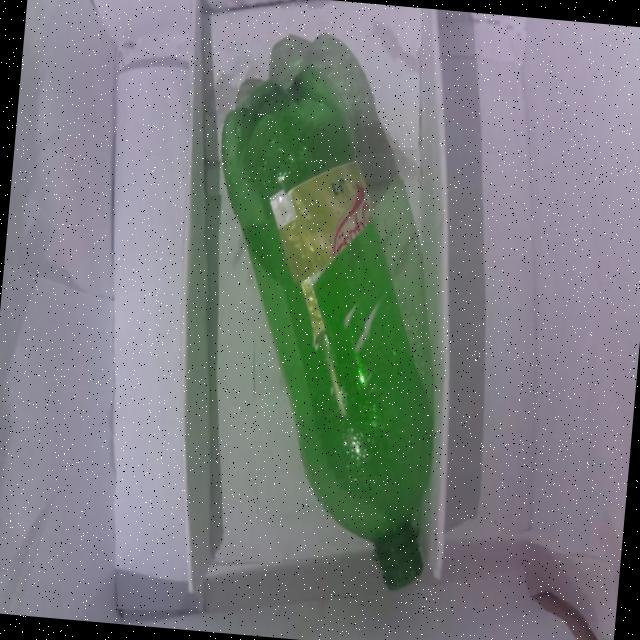bottle: (178, 62, 480, 606)
label: (253, 169, 406, 293)
